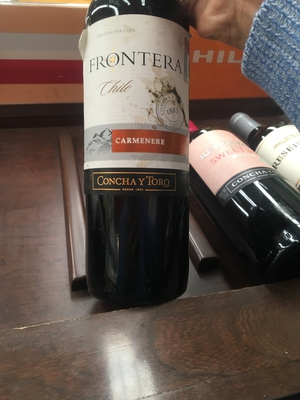frontera carmenere: (74, 8, 216, 299)
